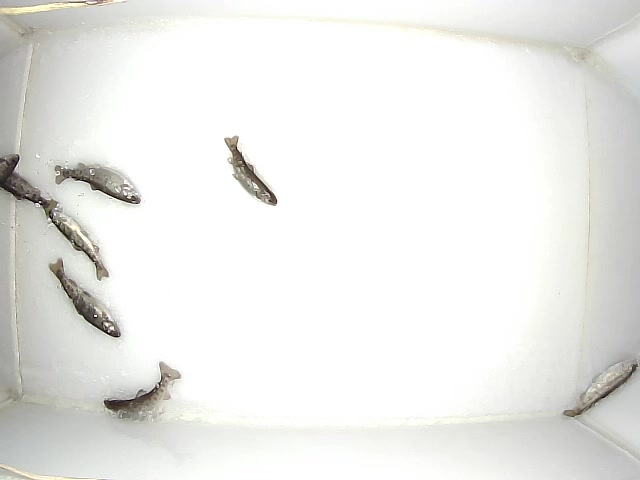fish: (48, 257, 121, 338), (563, 358, 640, 417), (50, 207, 110, 281), (103, 361, 181, 415), (224, 135, 277, 207), (54, 162, 142, 204), (1, 162, 59, 219)
